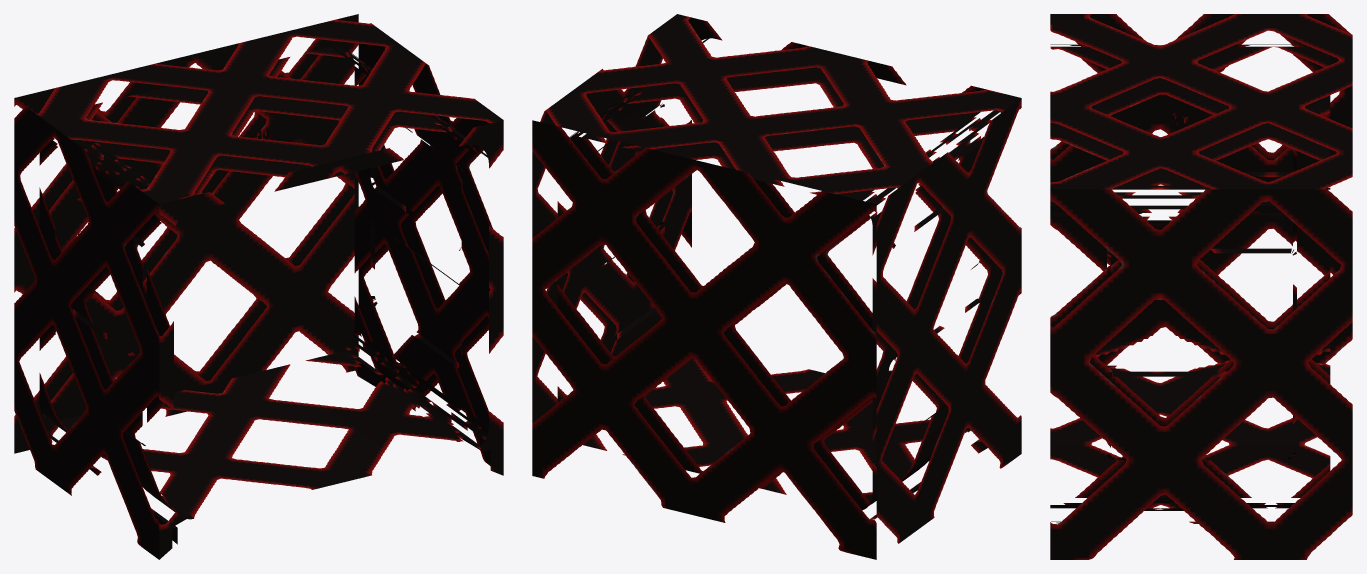
3 views of the same model, side by side, from view 1: azimuth 30°, elevation 25°; view 2: azimuth 150°, elevation 25°; view 3: azimuth 270°, elevation 25° (orthographic). The views are drawn at different scales.
Bounding box in the file's own units: 1.08 × 1.06 × 0.7855.
